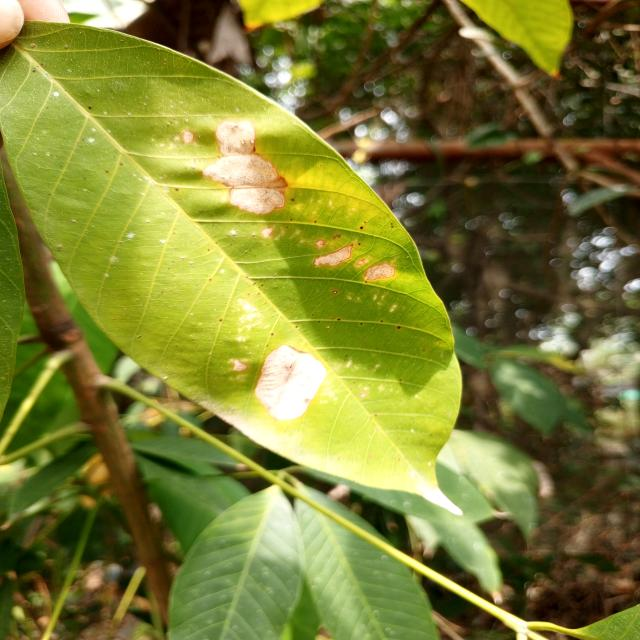Colletotrichum: (333, 290, 337, 294), (396, 326, 401, 329), (360, 322, 363, 324), (380, 320, 383, 322), (337, 318, 340, 320)
Leaf-Blight: (202, 119, 288, 214), (255, 344, 326, 421), (313, 244, 353, 267), (363, 263, 396, 281), (233, 359, 248, 372), (261, 227, 274, 238)
